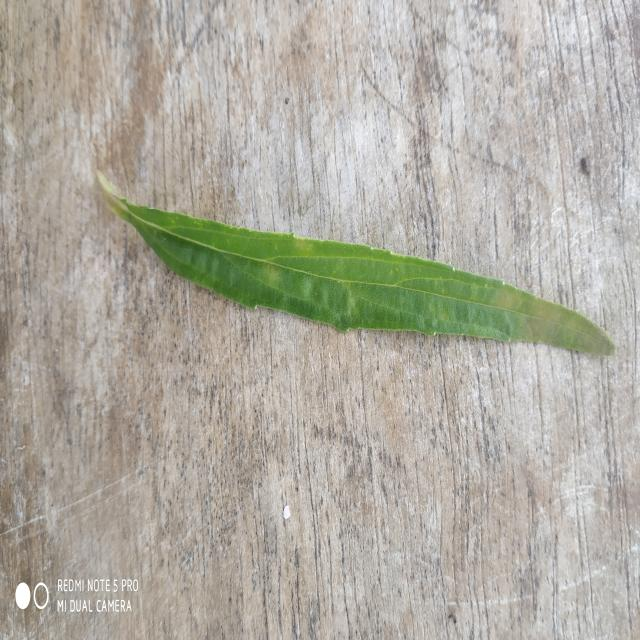defectedthambe: (234, 233, 420, 331)
thambe: (98, 171, 615, 356)
